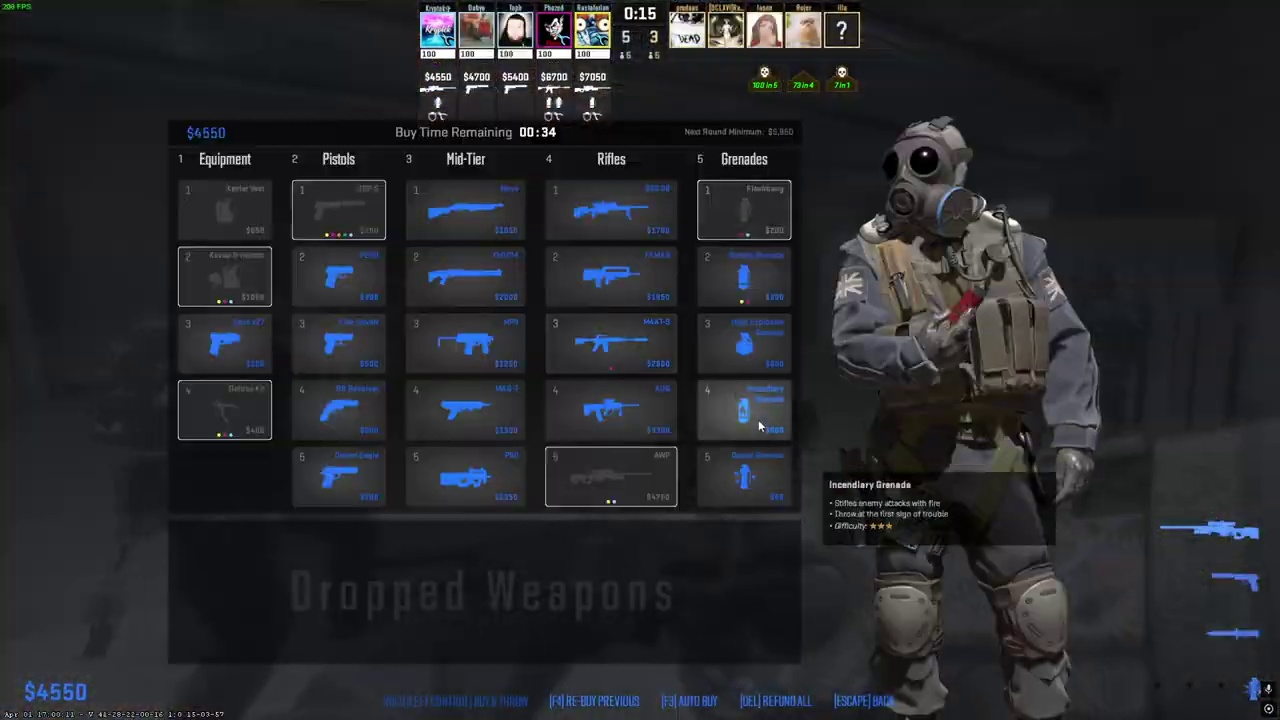CT: (851, 119, 1082, 720)
